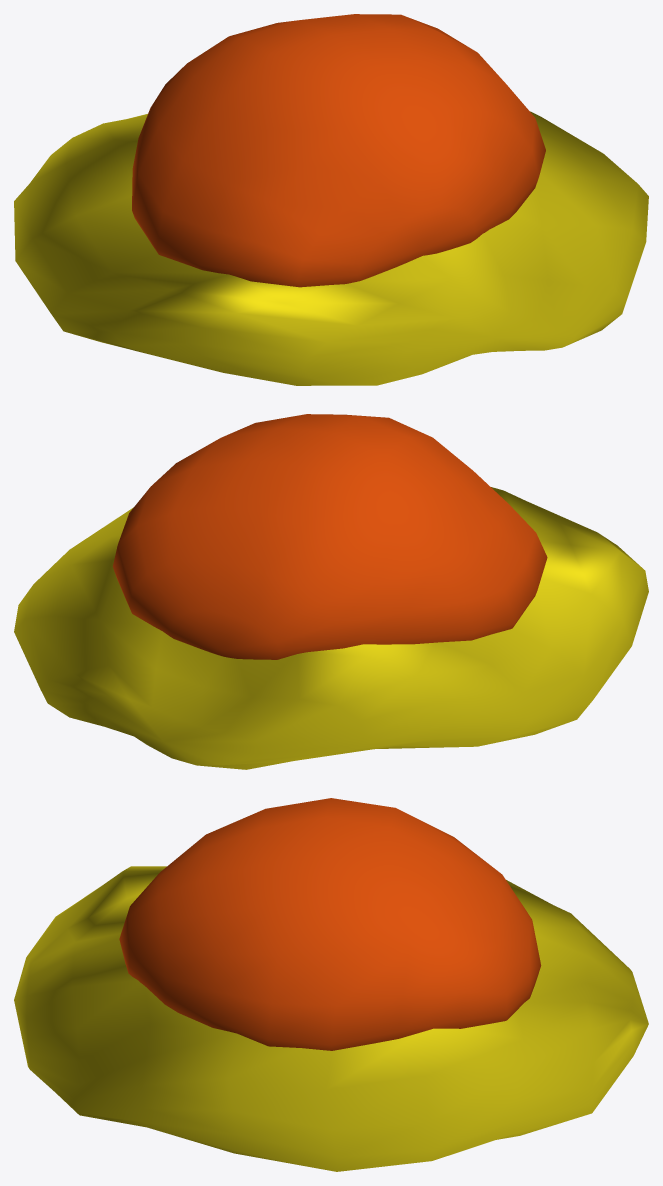
File: ufo3damaged.obj
The picture shows the model from 3 angles, top to bottom: view 1: azimuth 30°, elevation 25°; view 2: azimuth 150°, elevation 25°; view 3: azimuth 270°, elevation 25°; orthographic projection. The views are drawn at different scales.
Visible parts, largest first — view 1: Sphere01, Sphere02; view 2: Sphere01, Sphere02; view 3: Sphere02, Sphere01.
Boxes of the visible parts, bbox=[...] form: Sphere01: bbox=[132, 14, 545, 287]; Sphere02: bbox=[14, 111, 648, 385]; Sphere01: bbox=[112, 414, 547, 659]; Sphere02: bbox=[14, 487, 648, 769]; Sphere02: bbox=[14, 866, 648, 1171]; Sphere01: bbox=[119, 798, 541, 1050].
Bounding box in the file's own units: 122 × 56.9 × 122.
